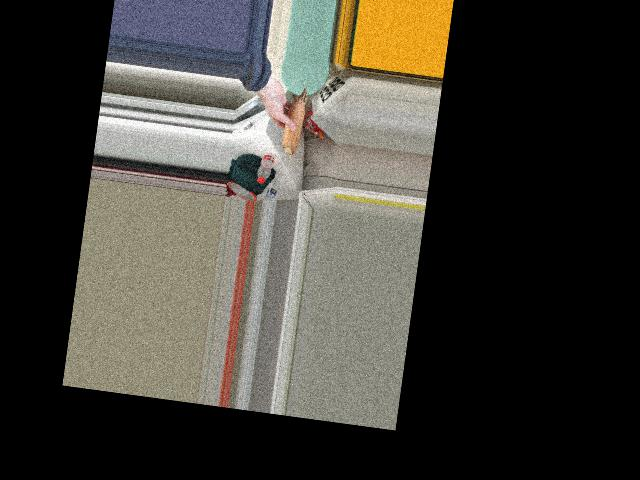sweet_potato: (275, 84, 312, 159)
